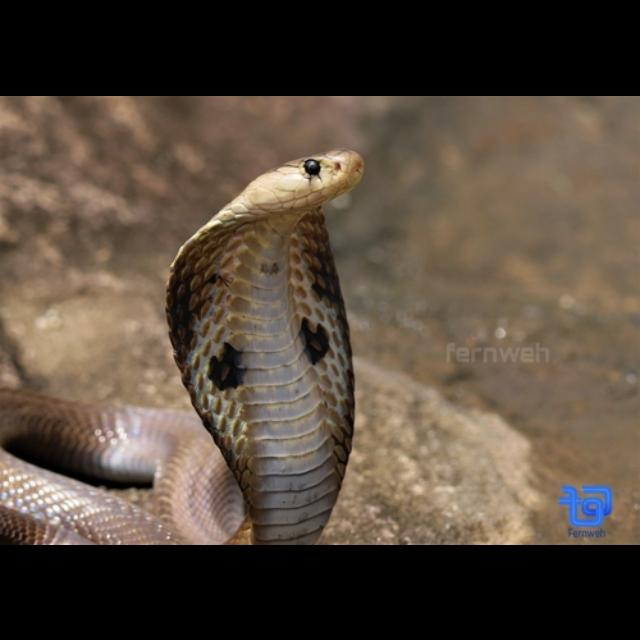snake: (0, 142, 396, 543)
